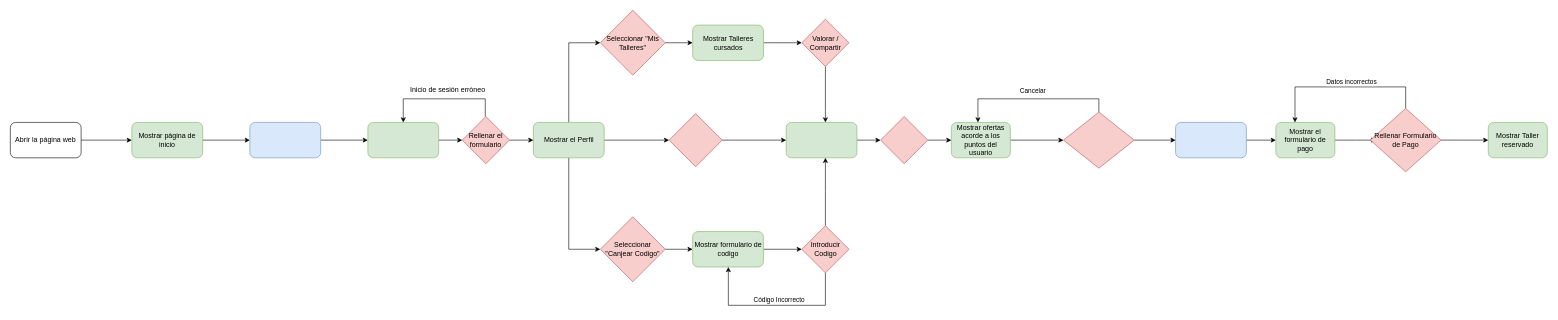
Some shapes in this 1558 by 320 pixel diagram are drawn without their labels. Here are the shapes that lost their labels. From the top down, the centre of each, then its label:
point 285,140: Ir a Perfil
point 403,140: Mostrar un formulario de inicio de sesión
point 695,140: Seleccionar "Mis Logros"
point 821,140: Mostrar puntos obtenidos
point 904,140: Canjear Ofertas
point 1098,140: Seleccionar Oferta
point 1210,140: Ir a Pagar
